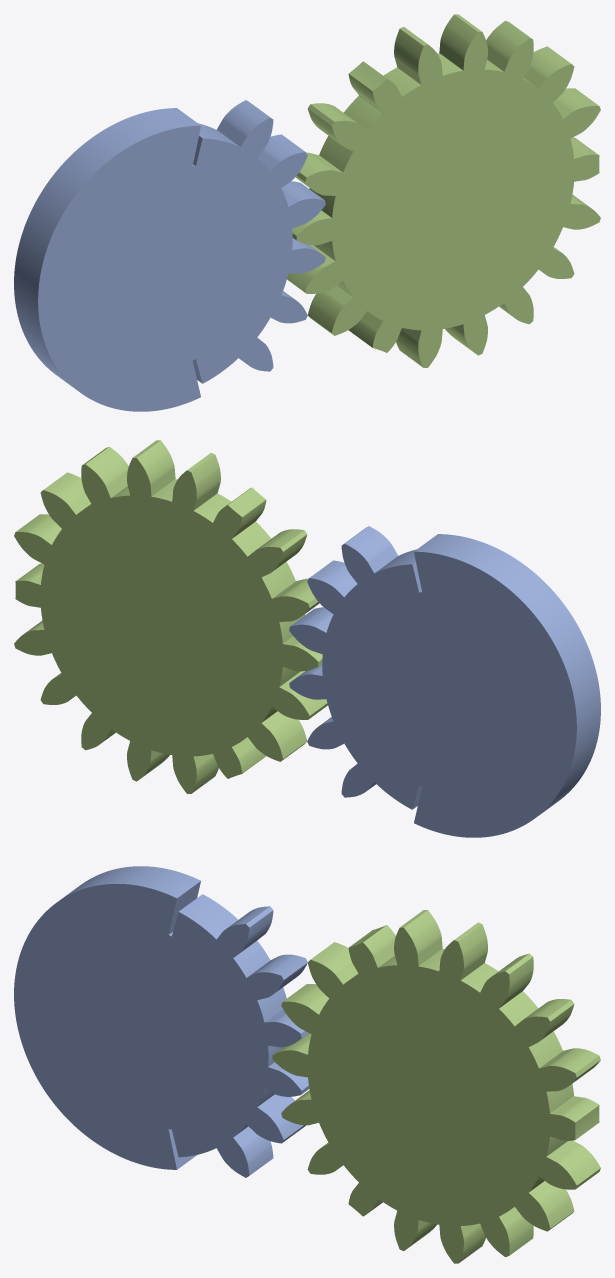
The model's file is intermittent_gear_pair_demo.glb.
3 renders of one model, top to bottom at view 1: azimuth 30°, elevation 25°; view 2: azimuth 150°, elevation 25°; view 3: azimuth 330°, elevation 25°, orthographic.
Parts seen in each view (by area): view 1: notched_driven, mutilated_driver; view 2: notched_driven, mutilated_driver; view 3: notched_driven, mutilated_driver.
Boxes of the visible parts, bbox=[...] form: notched_driven: bbox=[287, 14, 600, 367]; mutilated_driver: bbox=[14, 100, 325, 411]; notched_driven: bbox=[14, 440, 327, 793]; mutilated_driver: bbox=[289, 526, 600, 837]; notched_driven: bbox=[272, 910, 600, 1263]; mutilated_driver: bbox=[14, 866, 309, 1177].
Size of the model in its own units: 53.91 by 29.61 by 4.
